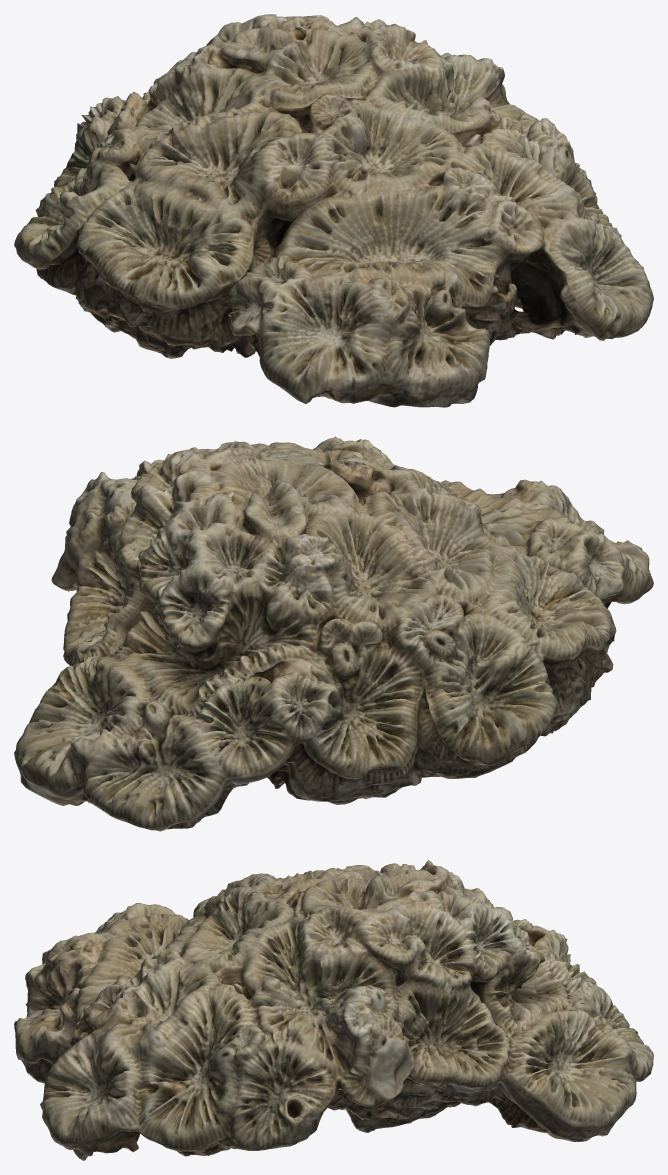
The model's file is usnm_79493-100k-2048.gltf.
3 views of the same model, one above another, from view 1: azimuth 30°, elevation 25°; view 2: azimuth 150°, elevation 25°; view 3: azimuth 270°, elevation 25° (orthographic). The views are drawn at different scales.
Size of the model in its own units: 0.1412 by 0.0639 by 0.169.
Materials: 1 (1 with a texture image).
